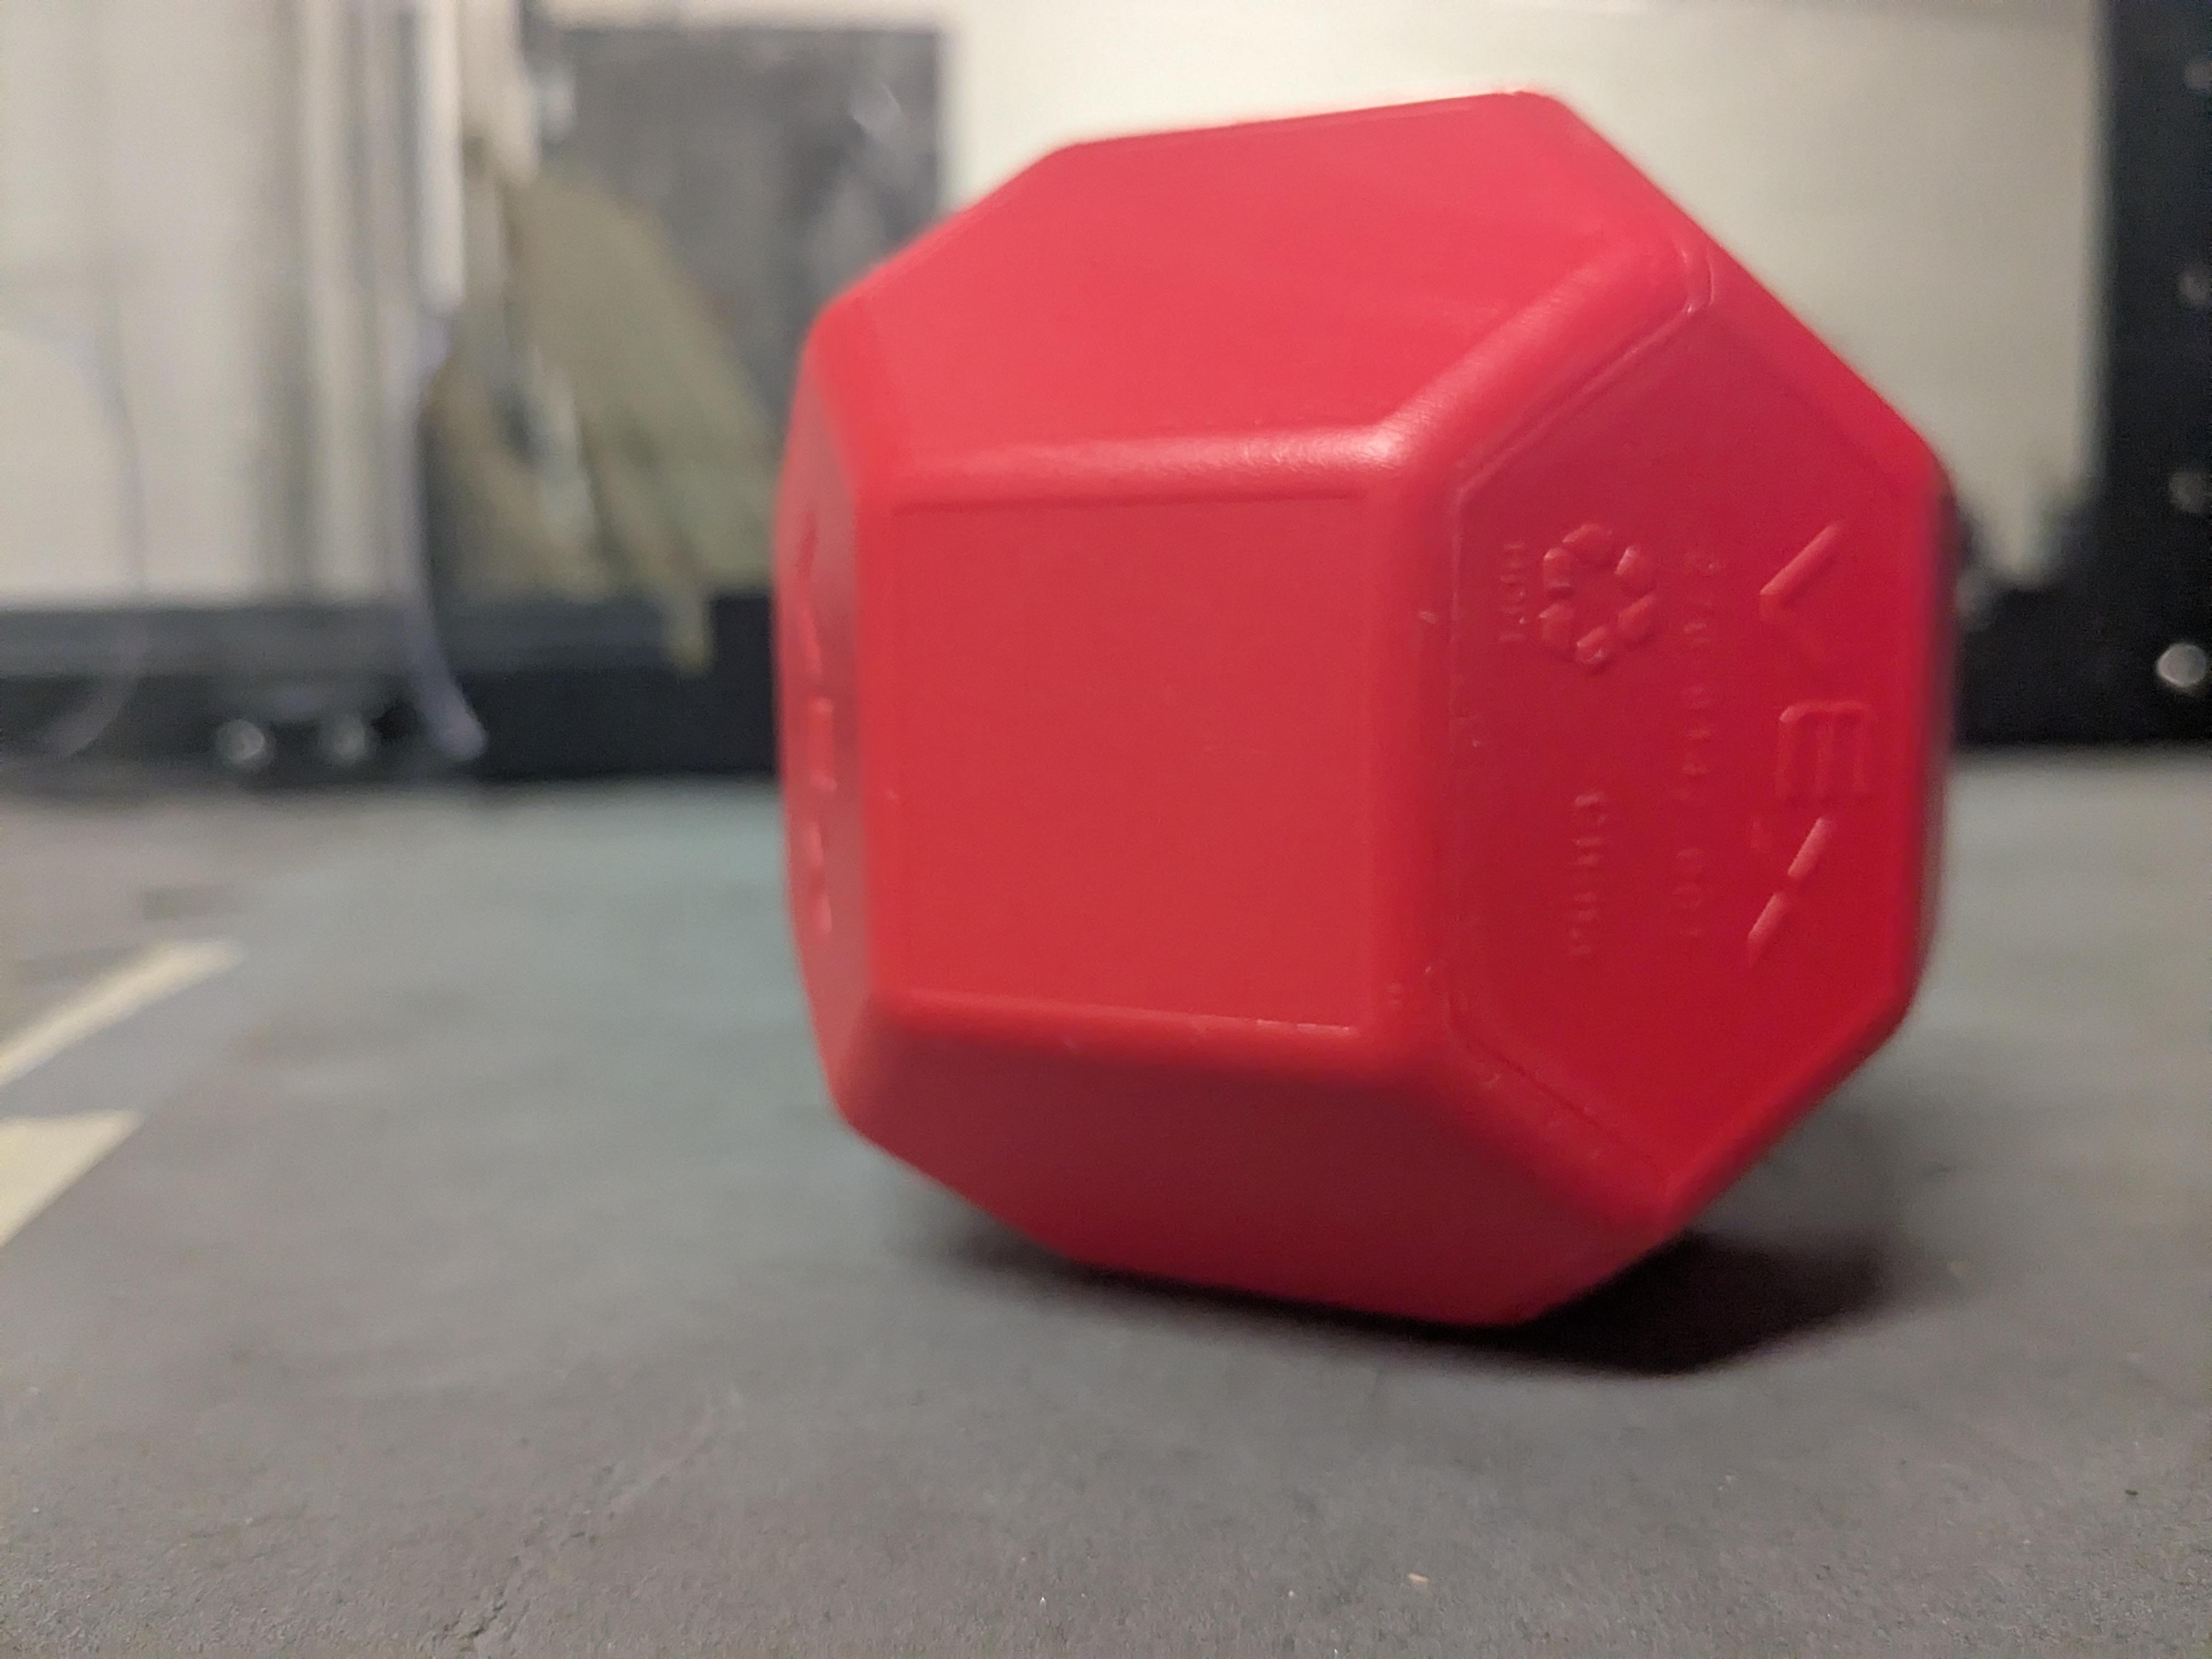Vex-Pieces-RED: (777, 94, 1956, 1321)
